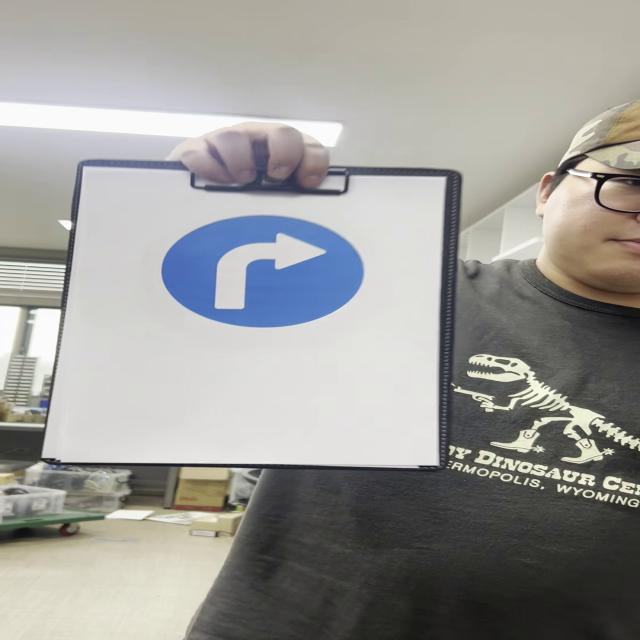right: (167, 214, 364, 333)
